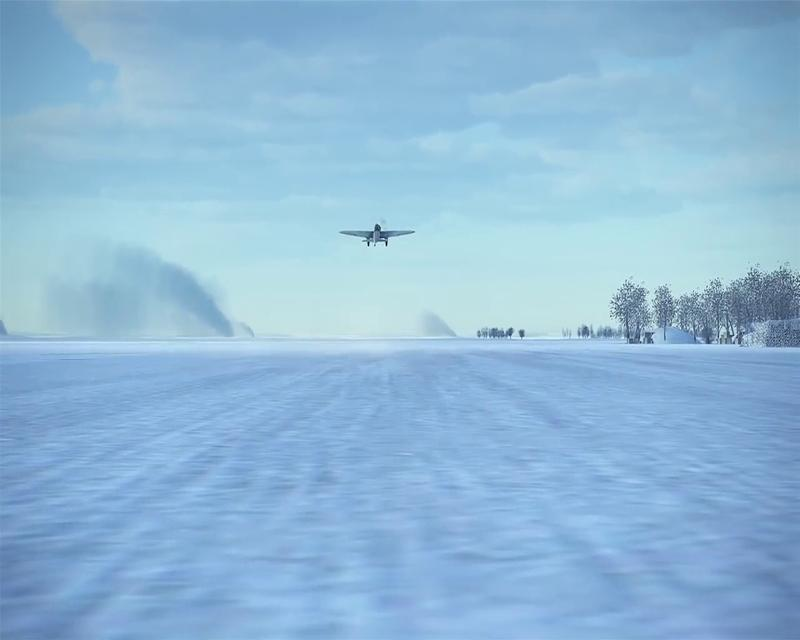UAV: (337, 222, 416, 250)
